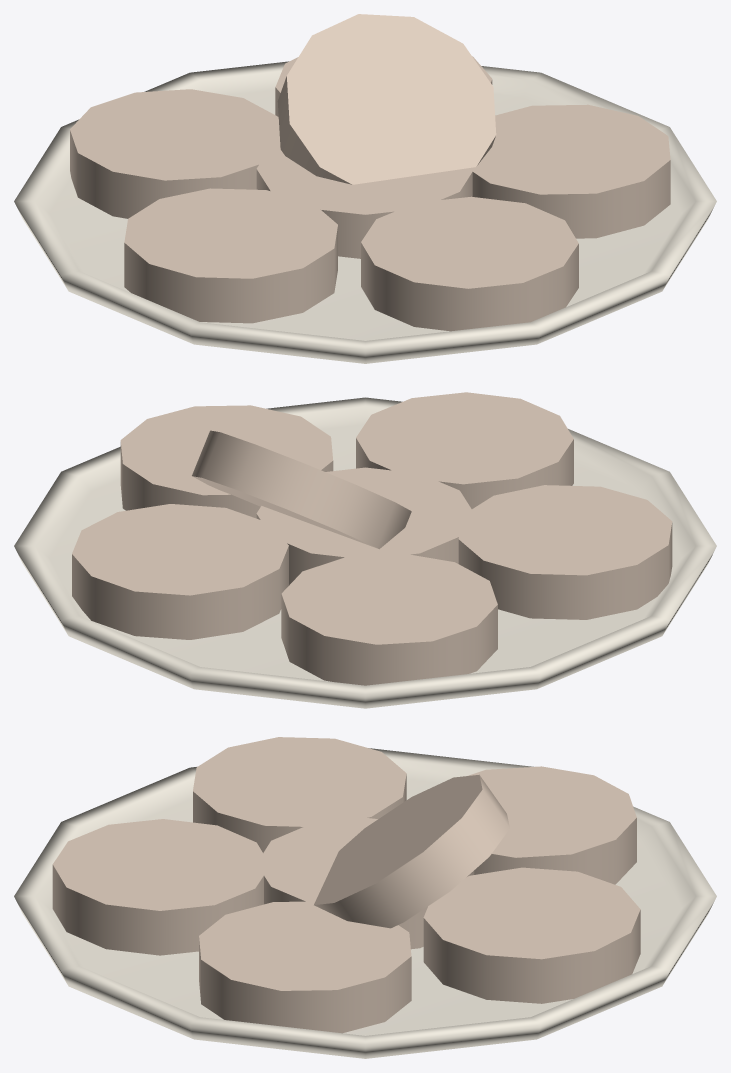
Rendered from SM_GioLua.glb.
The picture shows the model from 3 angles, top to bottom: view 1: azimuth 30°, elevation 25°; view 2: azimuth 150°, elevation 25°; view 3: azimuth 270°, elevation 25°; orthographic projection.
Visible parts, largest first — view 1: SM_GioLua_Plate, SM_GioLua_Slice7, SM_GioLua_Slice2, SM_GioLua_Slice3, SM_GioLua_Slice1, SM_GioLua_Slice4, SM_GioLua_Slice6; view 2: SM_GioLua_Plate, SM_GioLua_Slice5, SM_GioLua_Slice4, SM_GioLua_Slice3, SM_GioLua_Slice2, SM_GioLua_Slice1, SM_GioLua_Slice7, SM_GioLua_Slice6; view 3: SM_GioLua_Plate, SM_GioLua_Slice5, SM_GioLua_Slice1, SM_GioLua_Slice2, SM_GioLua_Slice7, SM_GioLua_Slice3, SM_GioLua_Slice4, SM_GioLua_Slice6.
Boxes of the visible parts, left/top/right/bottom form: SM_GioLua_Plate: left=14, top=61, right=716, bottom=363; SM_GioLua_Slice7: left=277, top=14, right=496, bottom=184; SM_GioLua_Slice2: left=361, top=196, right=578, bottom=331; SM_GioLua_Slice3: left=124, top=188, right=337, bottom=323; SM_GioLua_Slice1: left=472, top=104, right=670, bottom=238; SM_GioLua_Slice4: left=70, top=89, right=279, bottom=218; SM_GioLua_Slice6: left=256, top=142, right=474, bottom=258; SM_GioLua_Plate: left=14, top=397, right=716, bottom=708; SM_GioLua_Slice5: left=72, top=504, right=288, bottom=639; SM_GioLua_Slice4: left=281, top=553, right=497, bottom=685; SM_GioLua_Slice3: left=458, top=485, right=672, bottom=619; SM_GioLua_Slice2: left=356, top=392, right=573, bottom=508; SM_GioLua_Slice1: left=120, top=405, right=333, bottom=518; SM_GioLua_Slice7: left=192, top=430, right=411, bottom=549; SM_GioLua_Slice6: left=256, top=467, right=471, bottom=585; SM_GioLua_Plate: left=14, top=748, right=716, bottom=1058; SM_GioLua_Slice5: left=423, top=867, right=640, bottom=1003; SM_GioLua_Slice1: left=199, top=901, right=411, bottom=1033; SM_GioLua_Slice2: left=52, top=819, right=263, bottom=955; SM_GioLua_Slice7: left=314, top=774, right=509, bottom=928; SM_GioLua_Slice3: left=193, top=737, right=406, bottom=852; SM_GioLua_Slice4: left=468, top=766, right=636, bottom=884; SM_GioLua_Slice6: left=256, top=818, right=474, bottom=949.
Bounding box in the file's own units: 0.2 × 0.0512 × 0.2.
